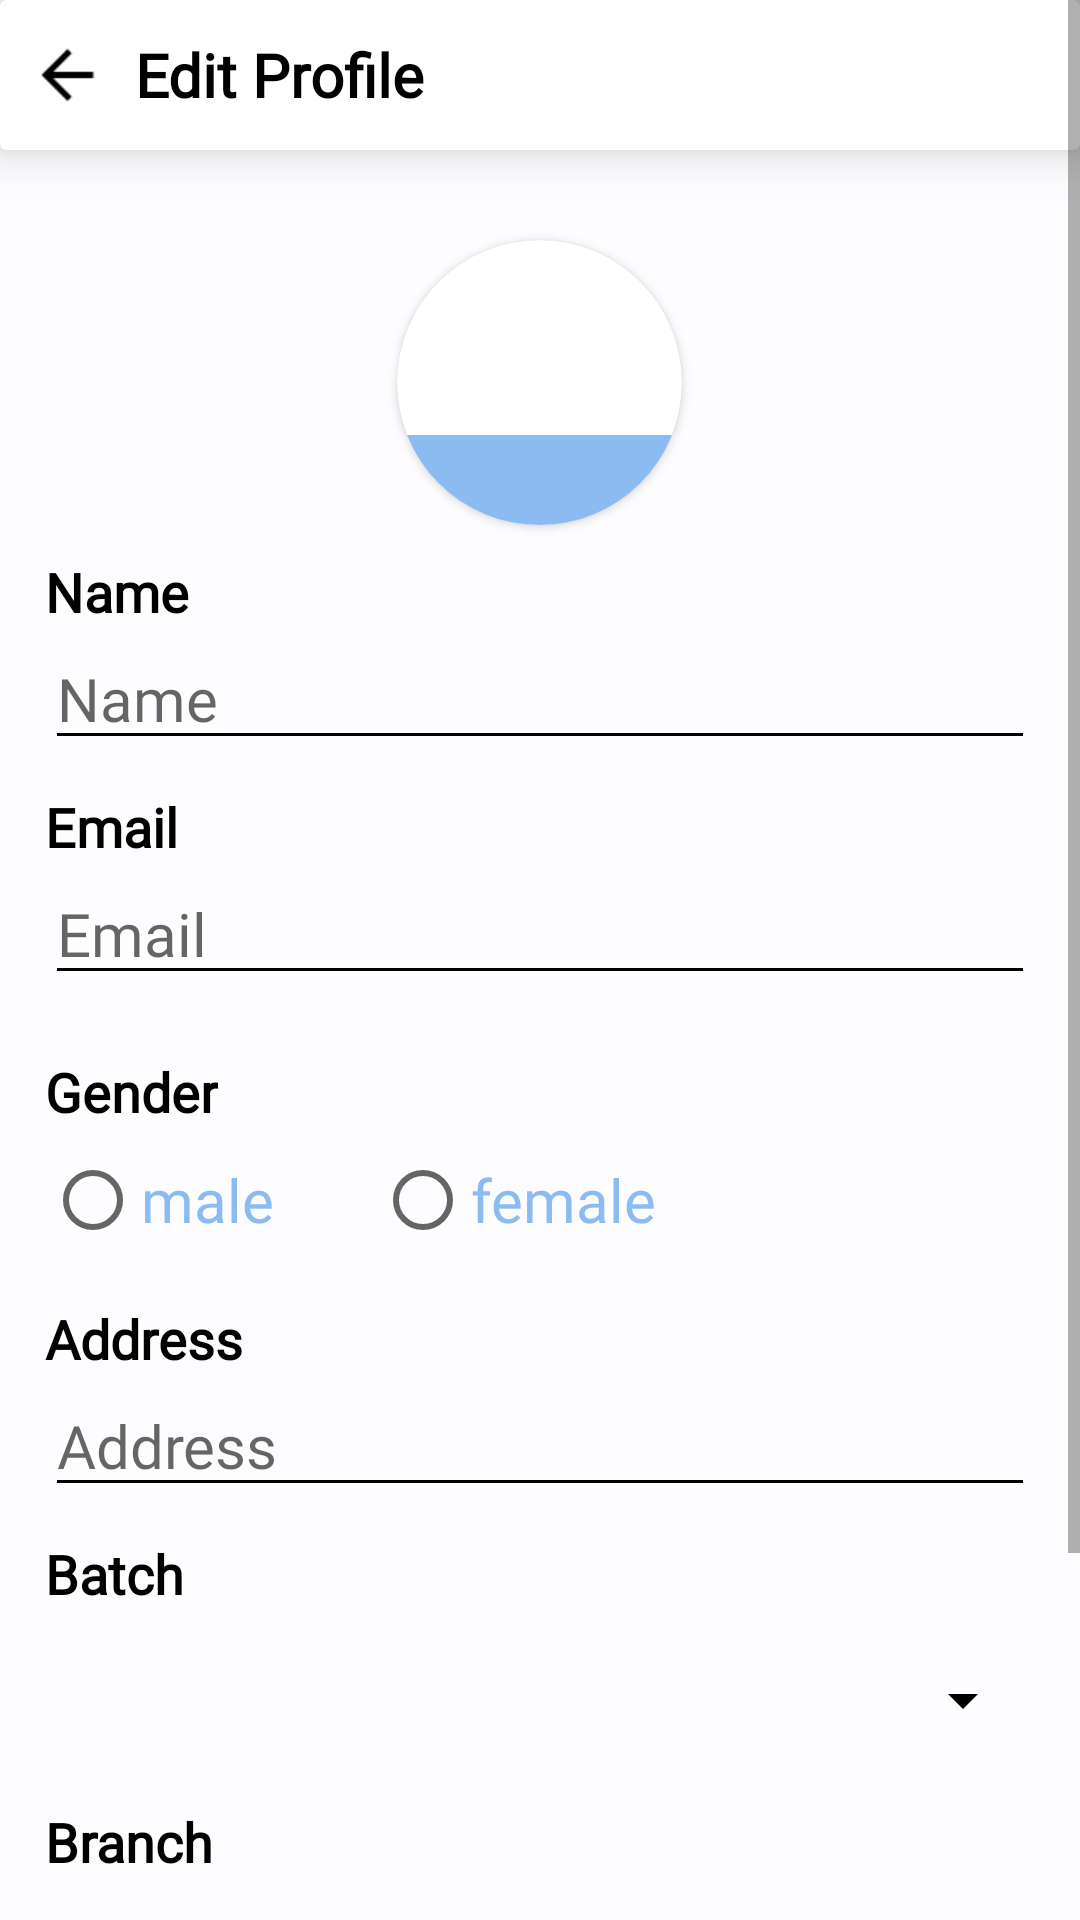

Point at icon controls on the screen. Image size 1080px×1920px, points as point (x, y).
back: point (68, 75)
